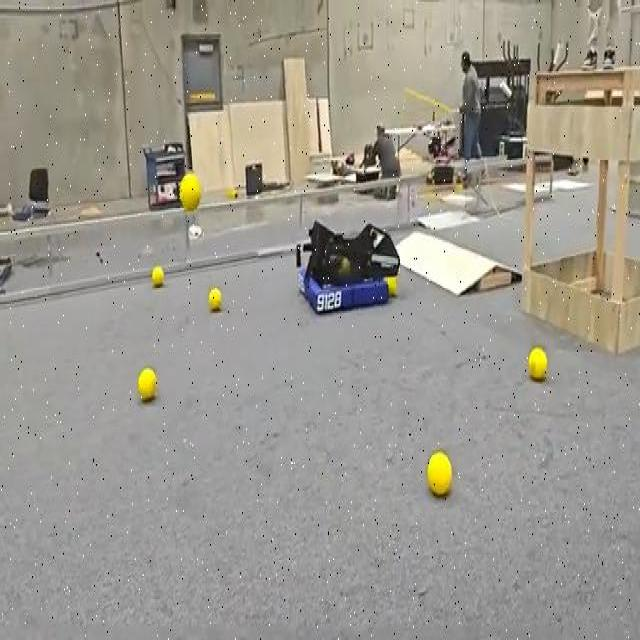Fuel: (426, 452, 452, 496), (179, 170, 201, 212), (528, 346, 547, 381), (528, 347, 548, 380), (138, 368, 156, 400), (208, 288, 221, 311), (151, 265, 164, 286), (385, 276, 396, 295)
